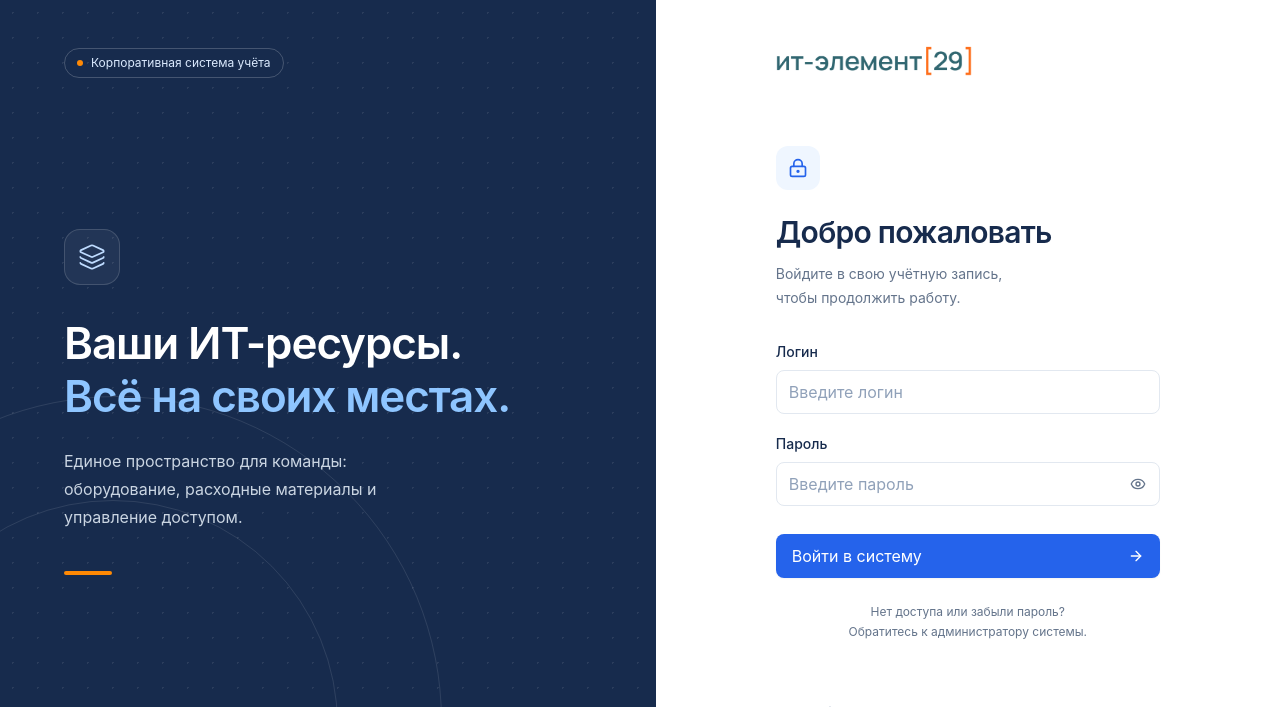
Scenario: Авторизация и интерфейс › показывает и скрывает введённый пароль без отправки формы
This screenshot has width=1280, height=707.
Type "example-password" into the password field labelled "Пароль" at coordinates (968, 484), box [776,462,1160,506]
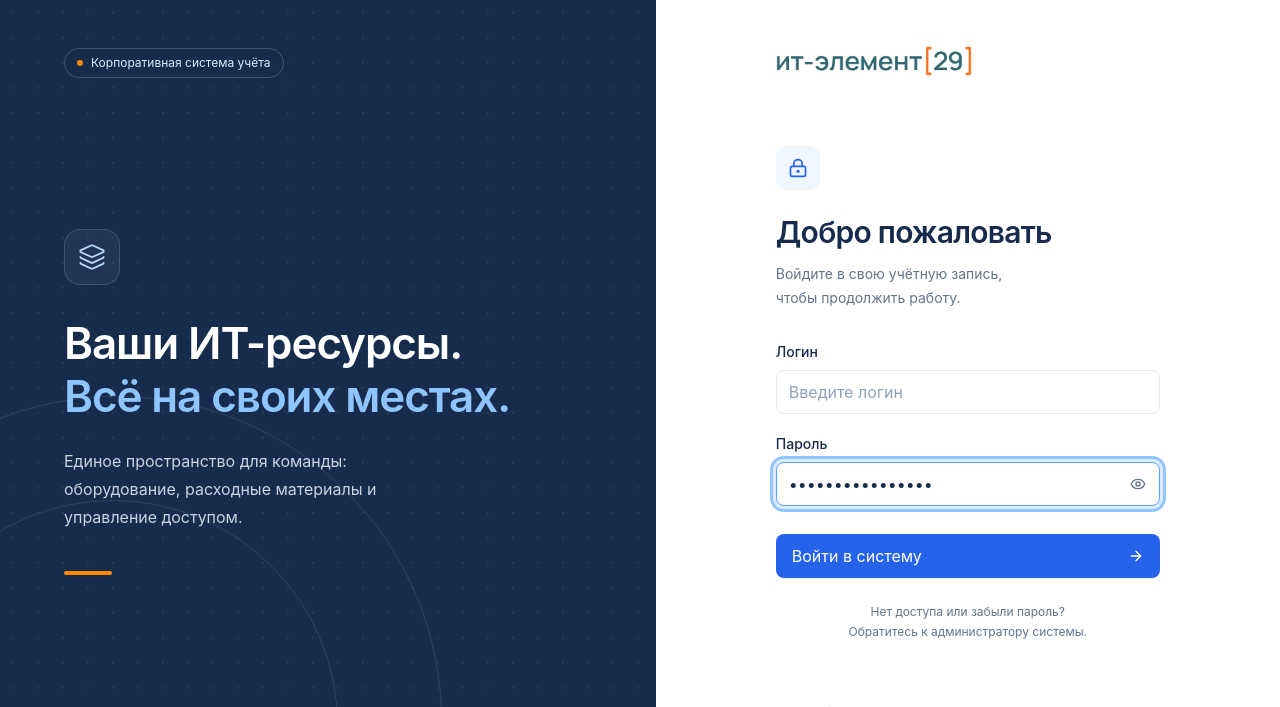
Click the button named "Показать пароль" at coordinates (1138, 484), box [1120,466,1156,502]
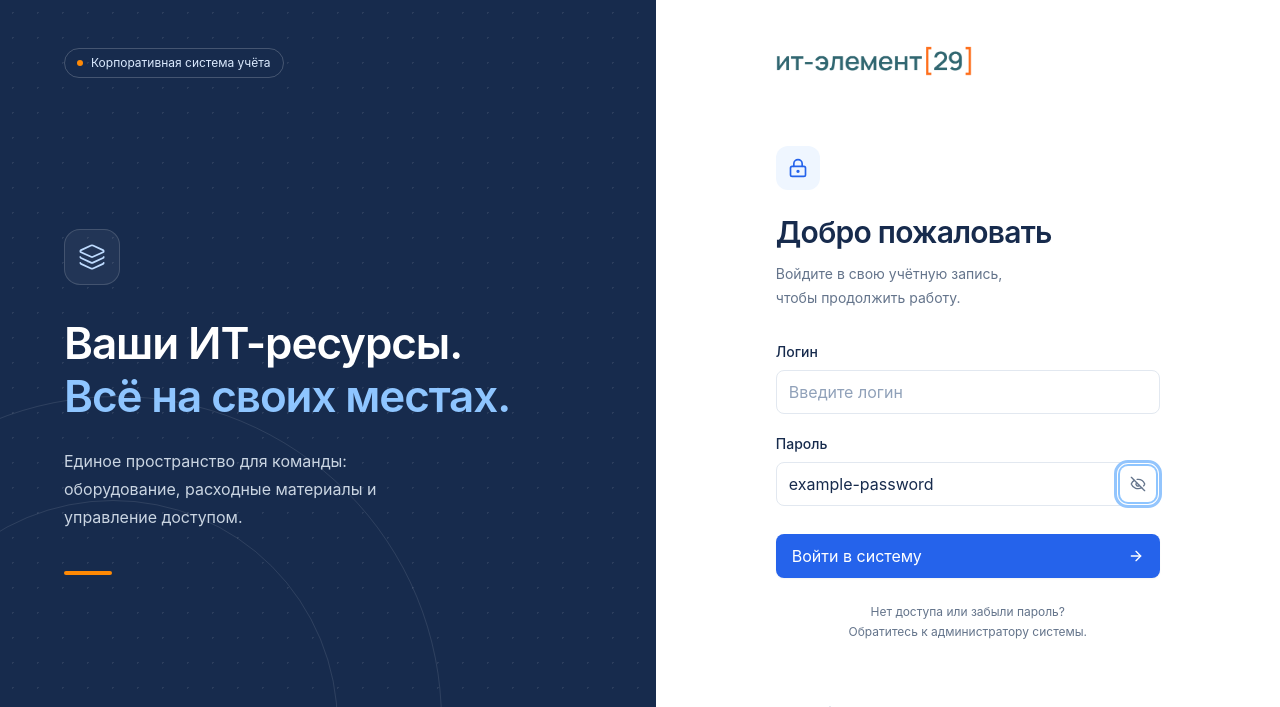
Check: the field labelled "Пароль" shows its text, box [776,462,1160,506]
Click the button named "Скрыть пароль" at coordinates (1138, 484), box [1120,466,1156,502]
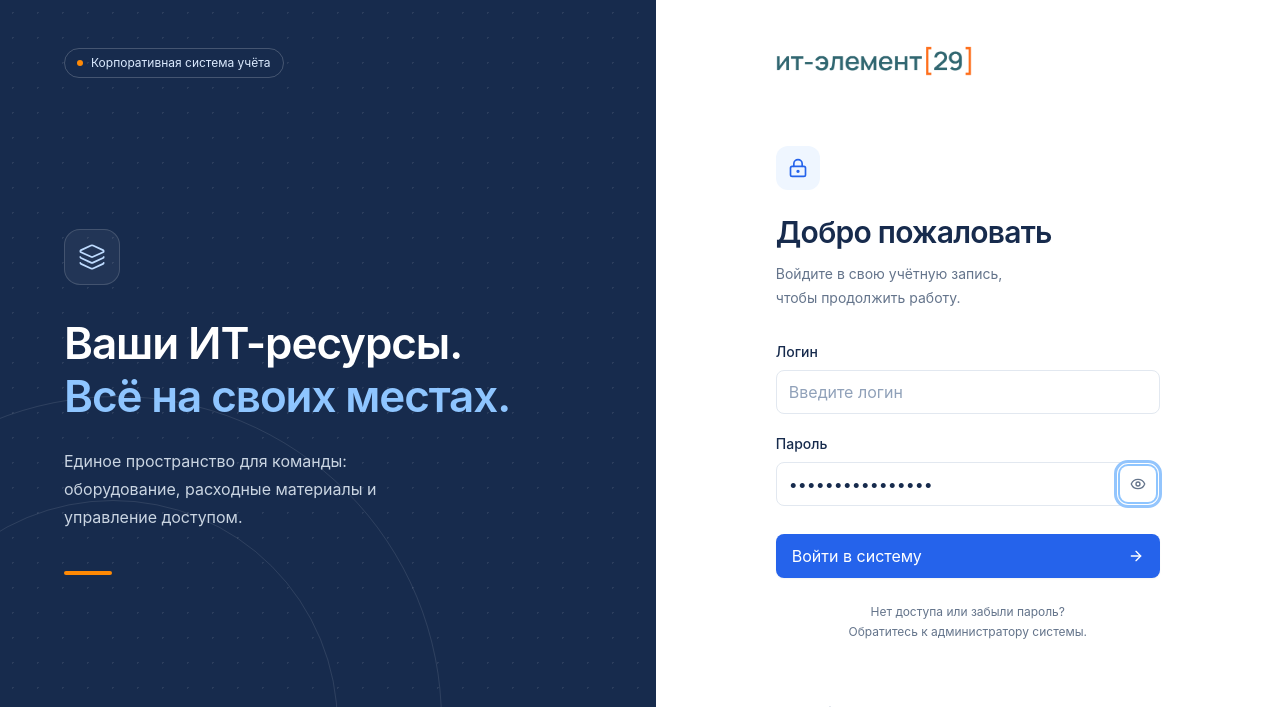
Check: the password field labelled "Пароль" hides its text, box [776,462,1160,506]
